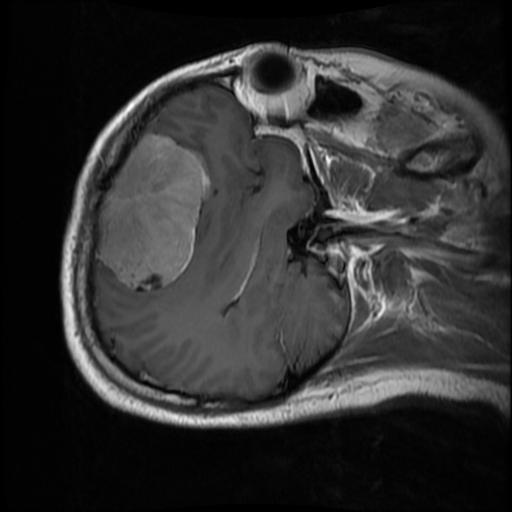meningioma: (95, 133, 206, 293)
